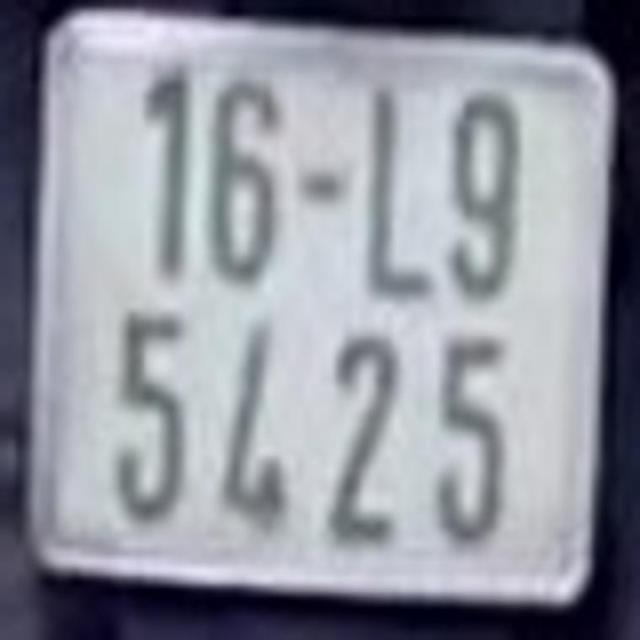1: (140, 64, 193, 278)
2: (328, 331, 398, 543)
4: (221, 315, 289, 534)
5: (115, 306, 191, 523), (437, 332, 510, 543)
6: (207, 71, 281, 283)
9: (450, 88, 520, 299)
L: (363, 82, 435, 298)
